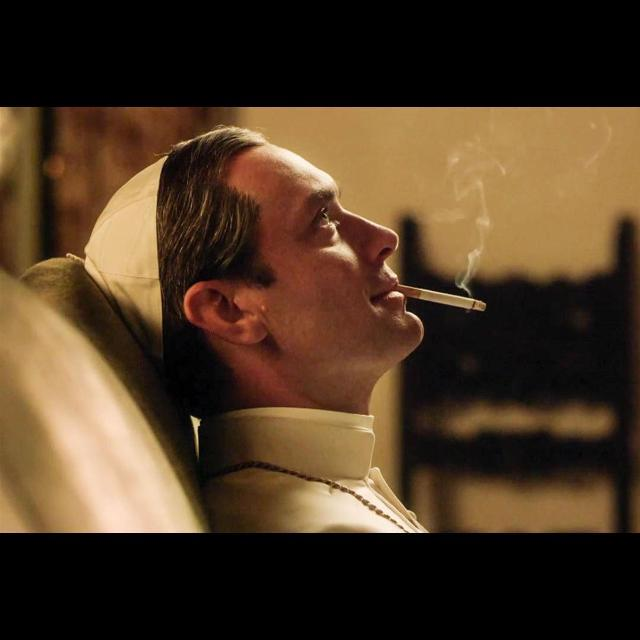rokok: (394, 276, 490, 316)
